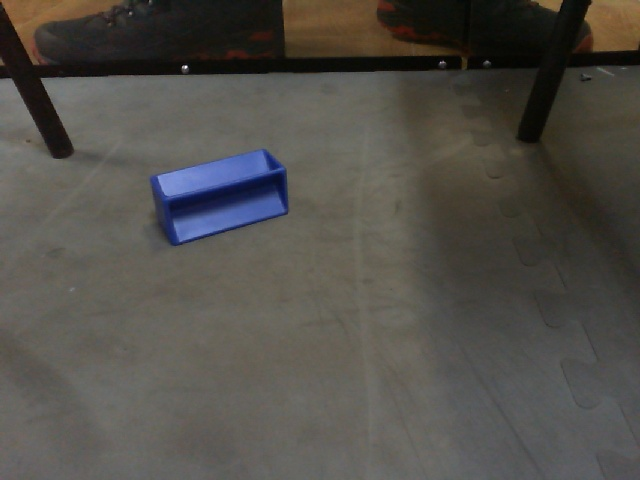BlueSample: (147, 147, 292, 250)
